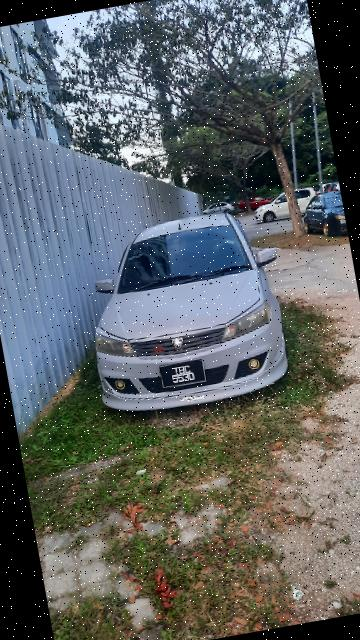License_Plate: (157, 357, 210, 392)
car: (68, 199, 300, 423)
